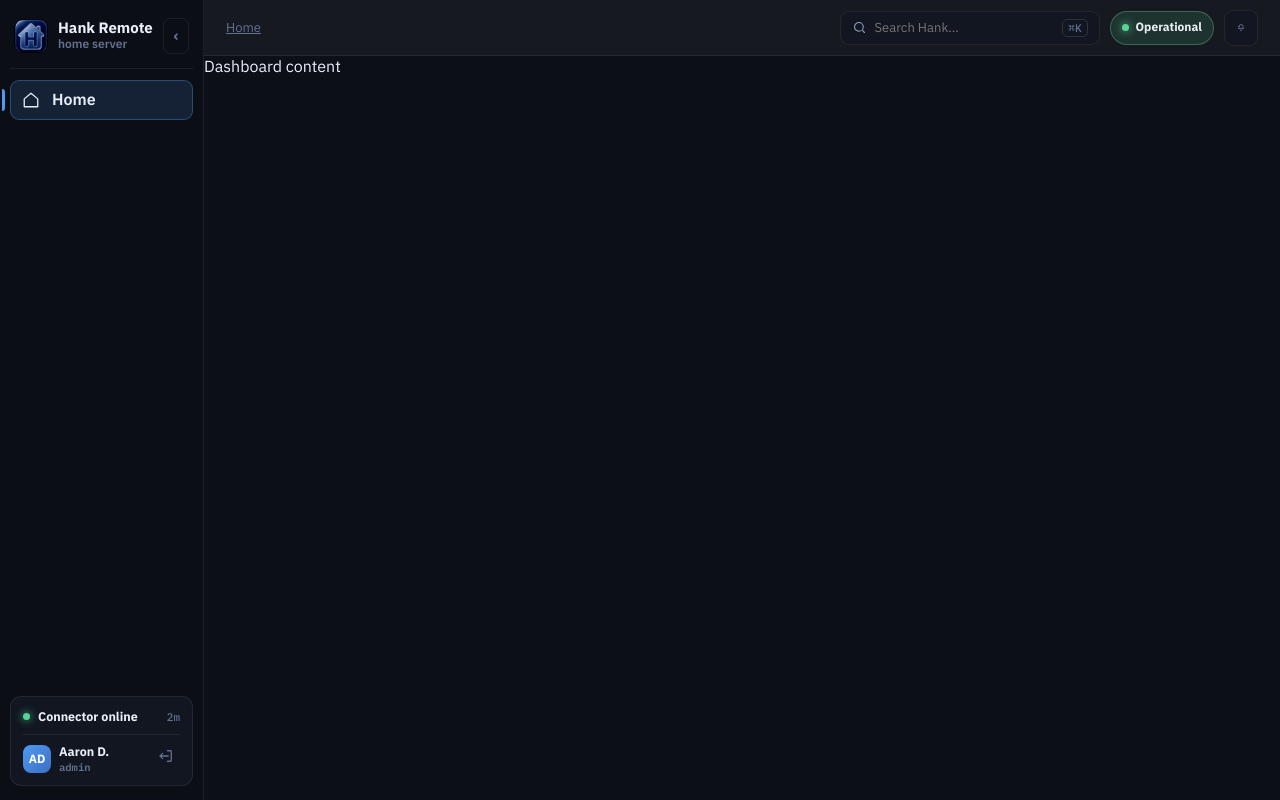
Shell › closes the notifications popover when clicking outside it
The image size is (1280, 800).
Click the button named "Notifications" at (1241, 28), box [1224,10,1258,46]
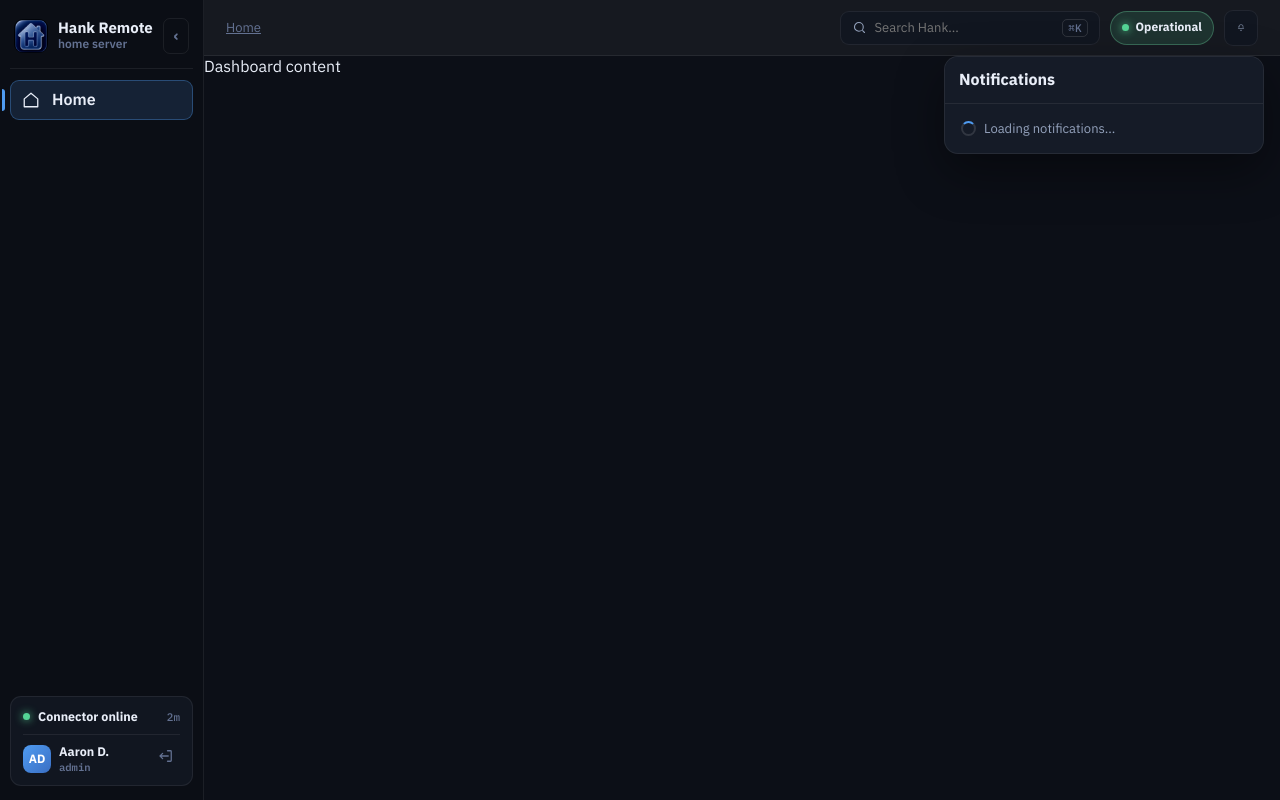
Expected: the dialog "Notifications" is shown, [944,56,1264,154]
Press the mouse on the text "Dashboard content" at (272, 66), box [204,56,341,76]
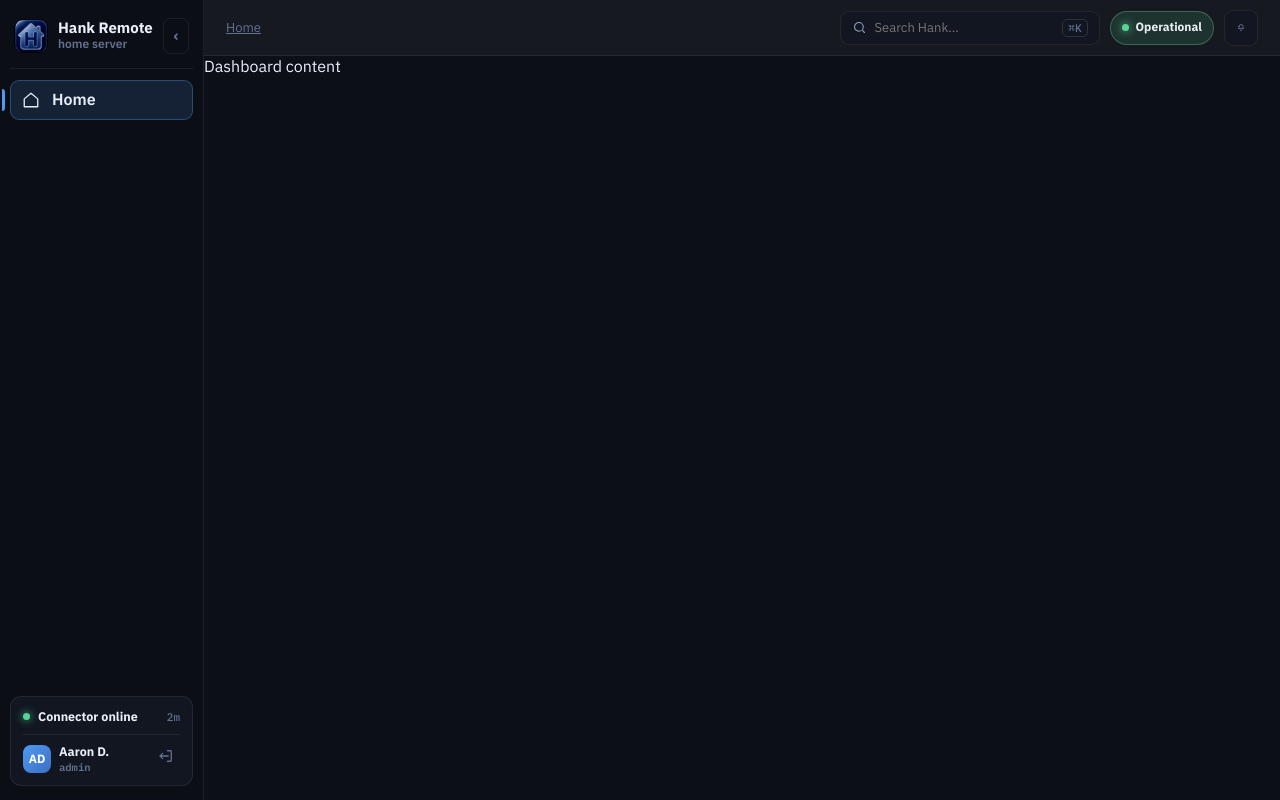
Expected: the text "Notifications" is gone
Click the button named "Notifications" at (1241, 28), box [1224,10,1258,46]
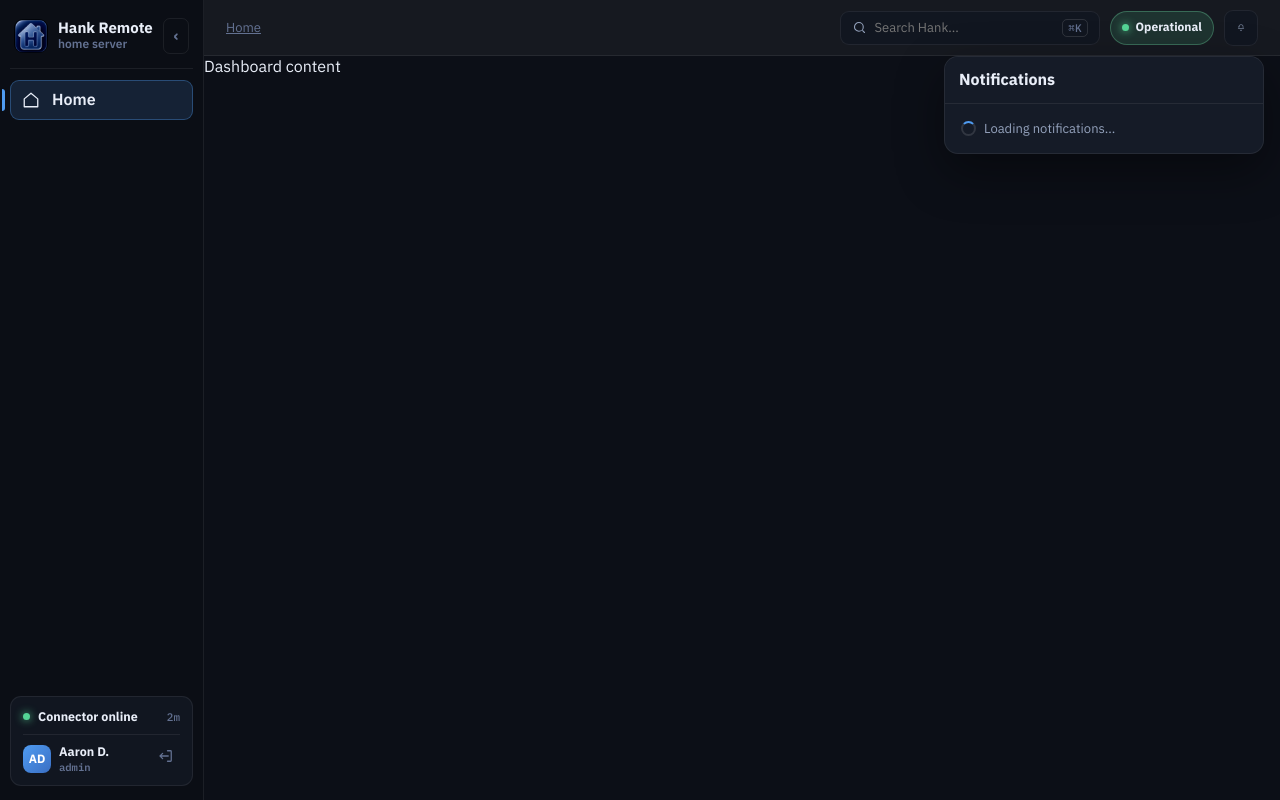
Expected: the dialog "Notifications" is shown, [944,56,1264,154]
Press Escape
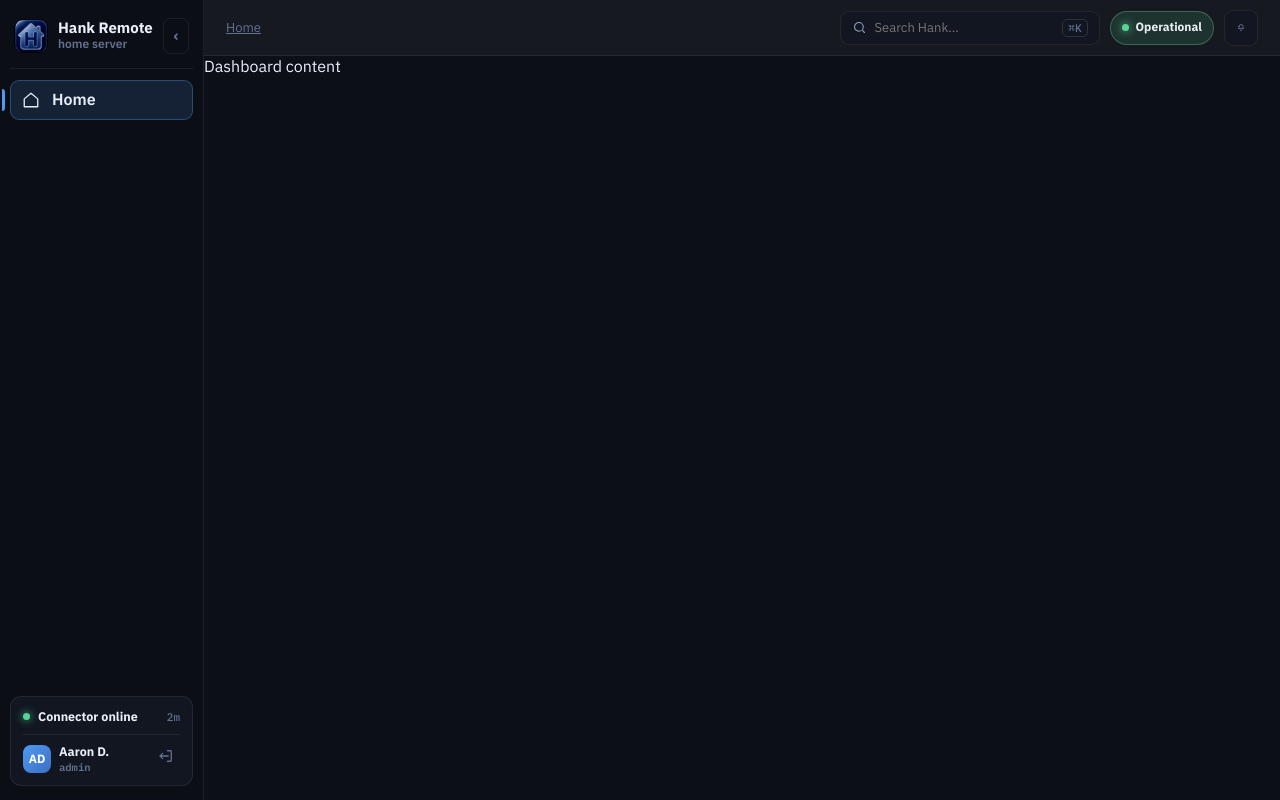
Expected: the text "Notifications" is gone
